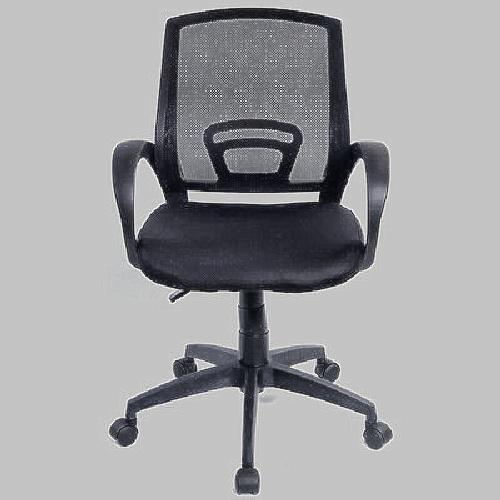chair: (111, 11, 387, 464)
